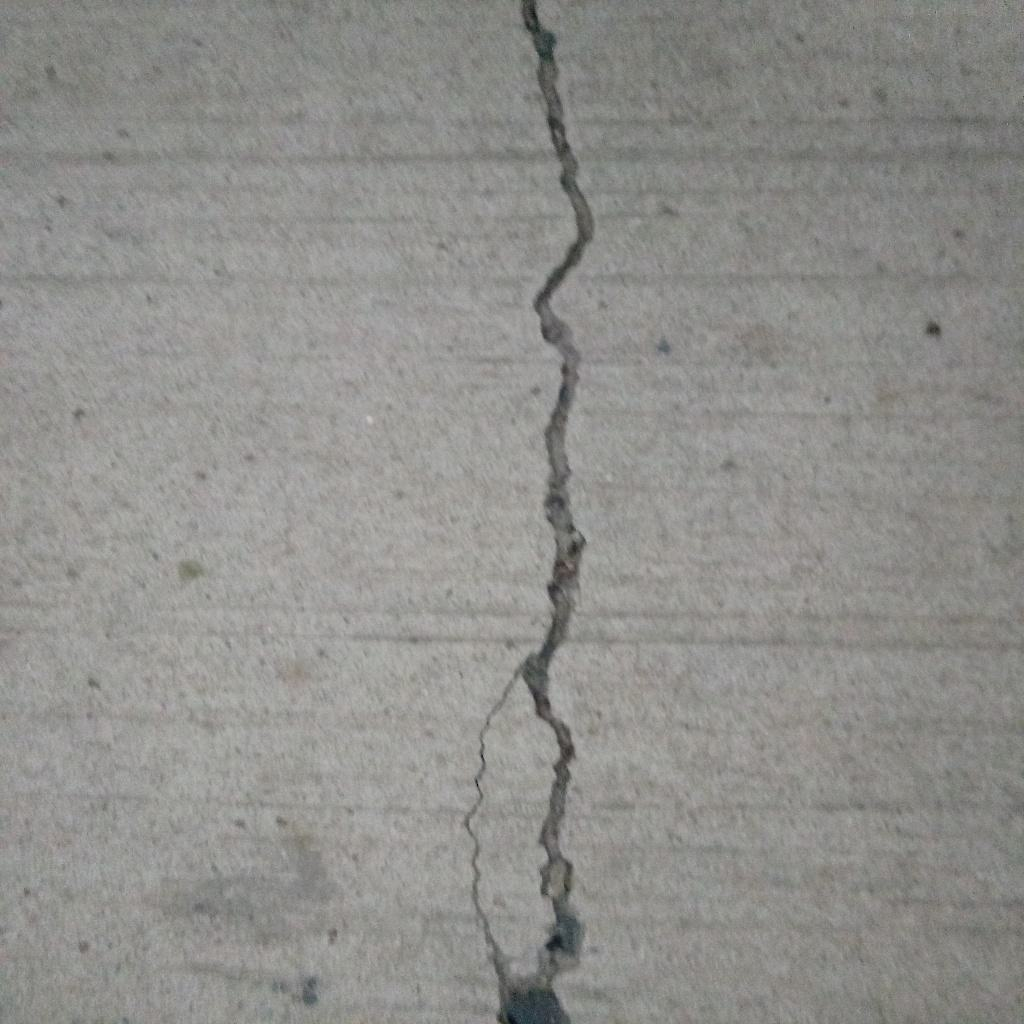Crack: (461, 1, 595, 1024)
